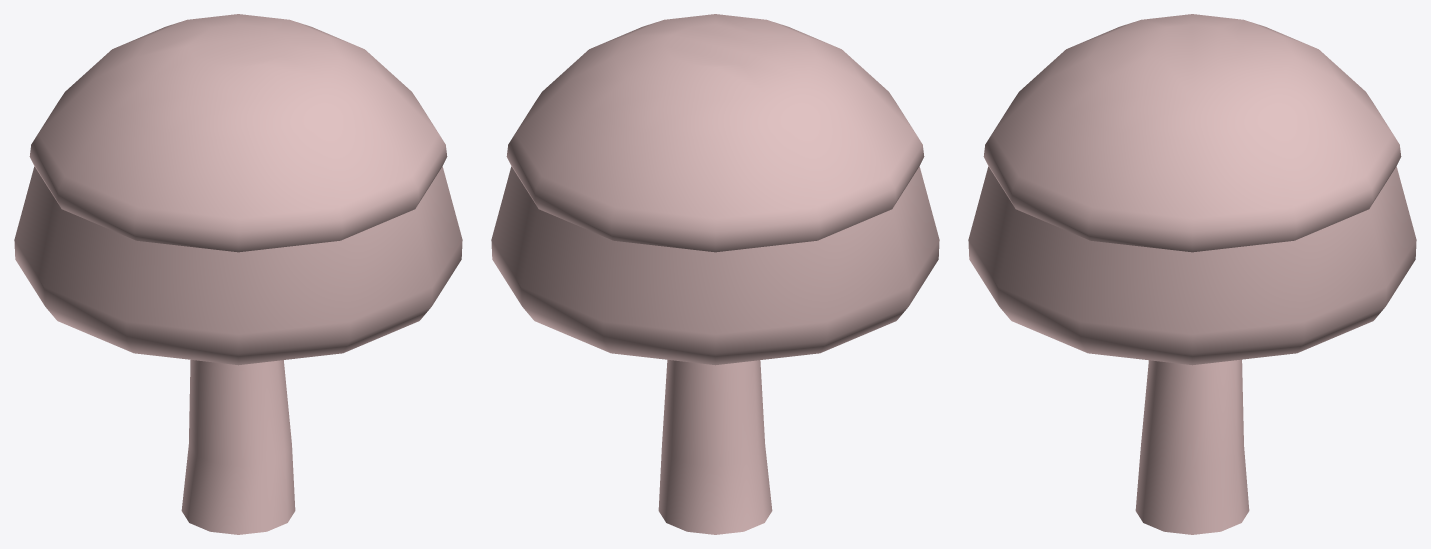
File: Tree_3.fbx
The picture shows the model from 3 angles, left to right: view 1: azimuth 30°, elevation 25°; view 2: azimuth 150°, elevation 25°; view 3: azimuth 270°, elevation 25°; orthographic projection.
Parts seen in each view (by area): view 1: Tree_3, Tree_3.001; view 2: Tree_3, Tree_3.001; view 3: Tree_3, Tree_3.001.
Part boxes in pixels (box(x1,y1,x2,y2)): Tree_3: box(14, 14, 462, 365); Tree_3.001: box(181, 360, 295, 534); Tree_3: box(491, 14, 939, 365); Tree_3.001: box(658, 359, 772, 534); Tree_3: box(968, 14, 1416, 365); Tree_3.001: box(1135, 359, 1249, 534).
Bounding box in the file's own units: 159 × 182 × 159.
